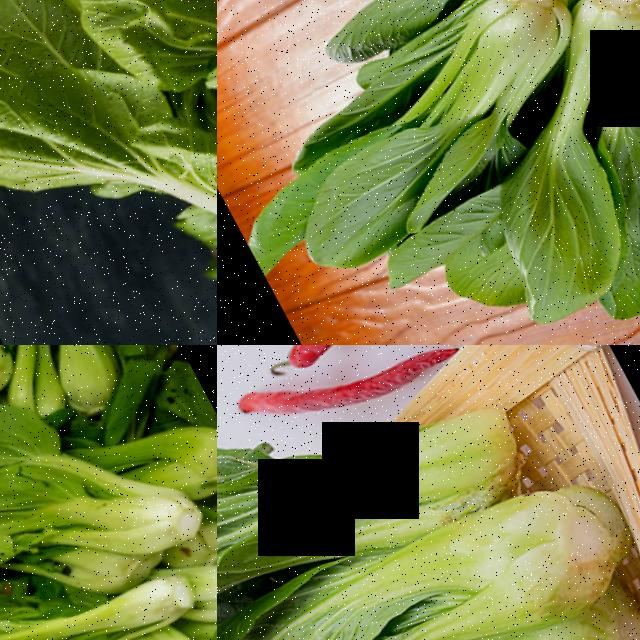bok choy: (217, 379, 524, 640), (217, 464, 640, 640), (296, 19, 590, 221), (406, 4, 640, 253), (58, 0, 217, 345), (0, 369, 149, 587), (0, 543, 201, 640), (589, 0, 640, 228), (92, 615, 203, 640)
